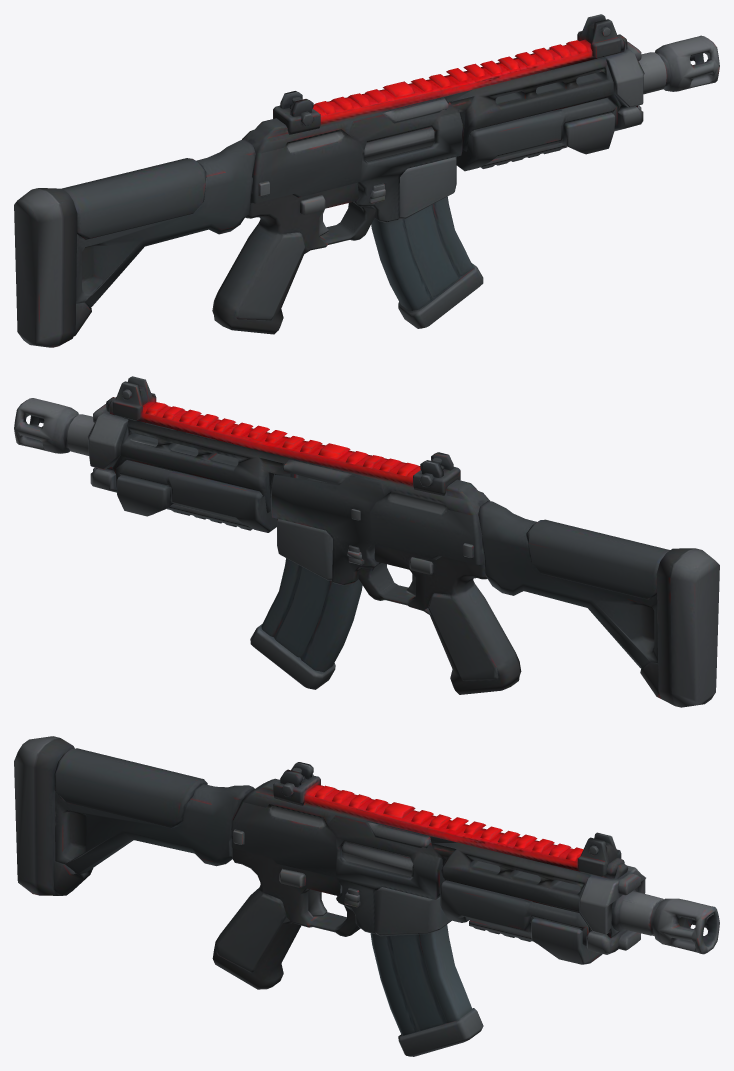
Rendered from riot-rifle.glb.
3 views of the same model, one above another, from view 1: azimuth 30°, elevation 25°; view 2: azimuth 150°, elevation 25°; view 3: azimuth 330°, elevation 25° (orthographic).
Visible parts, largest first — view 1: tripo_node_36085708-fc3a-4f7f-a731-e1843615ecde; view 2: tripo_node_36085708-fc3a-4f7f-a731-e1843615ecde; view 3: tripo_node_36085708-fc3a-4f7f-a731-e1843615ecde.
Boxes of the visible parts, box(x1,y1,x2,y2) form: tripo_node_36085708-fc3a-4f7f-a731-e1843615ecde: box(14, 14, 719, 347); tripo_node_36085708-fc3a-4f7f-a731-e1843615ecde: box(14, 376, 719, 707); tripo_node_36085708-fc3a-4f7f-a731-e1843615ecde: box(14, 736, 719, 1056).
Bounding box in the file's own units: 0.9995 × 0.3628 × 0.105.
1 material, 1 textured.
